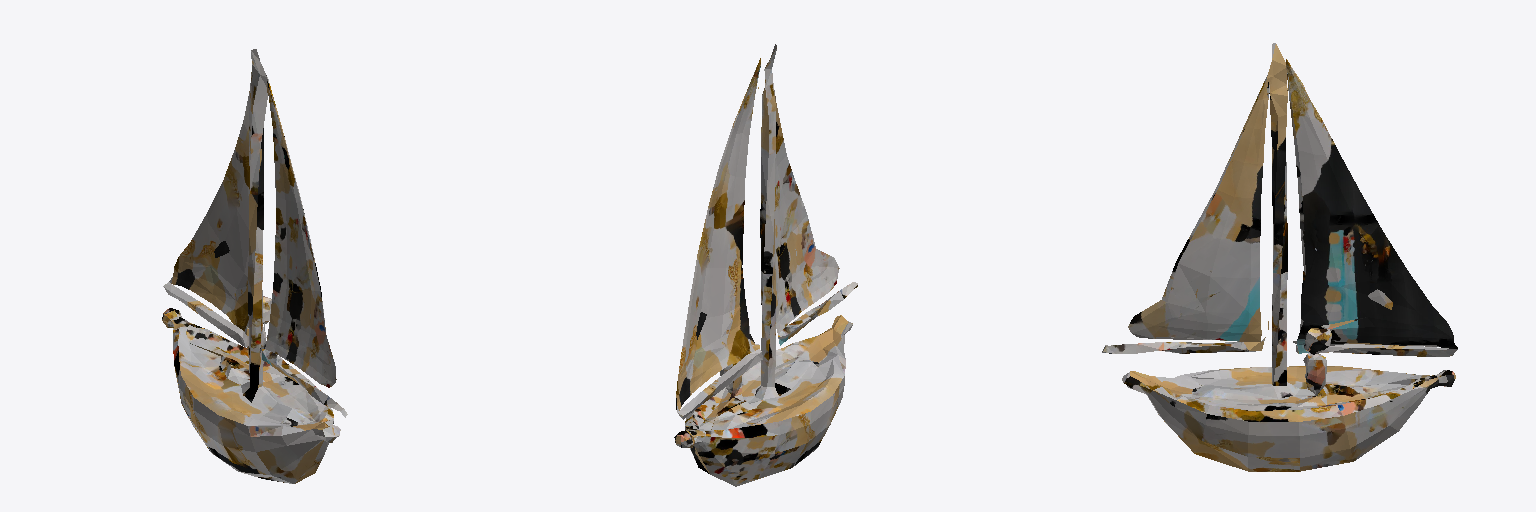
The picture shows the model from 3 angles: view 1: azimuth 30°, elevation 25°; view 2: azimuth 150°, elevation 25°; view 3: azimuth 270°, elevation 25°; orthographic projection.
Visible parts, largest first — view 1: tripo_node_2db0f1c6-a453-43d8-a26b-ed05011b7f42; view 2: tripo_node_2db0f1c6-a453-43d8-a26b-ed05011b7f42; view 3: tripo_node_2db0f1c6-a453-43d8-a26b-ed05011b7f42.
Boxes of the visible parts, x1,y1,x2,y2 form: tripo_node_2db0f1c6-a453-43d8-a26b-ed05011b7f42: [162, 49, 347, 483]; tripo_node_2db0f1c6-a453-43d8-a26b-ed05011b7f42: [674, 44, 857, 486]; tripo_node_2db0f1c6-a453-43d8-a26b-ed05011b7f42: [1102, 43, 1457, 471].
Size of the model in its own units: 0.2569 by 0.983 by 0.7547.
1 materials, 1 textured.